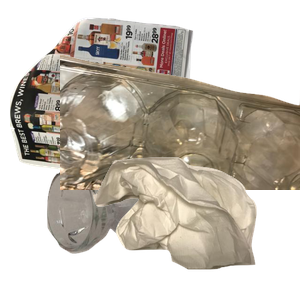glass: (44, 165, 178, 300)
paper: (10, 15, 196, 195)
plastic: (60, 52, 300, 232)
trash: (90, 155, 300, 300)
